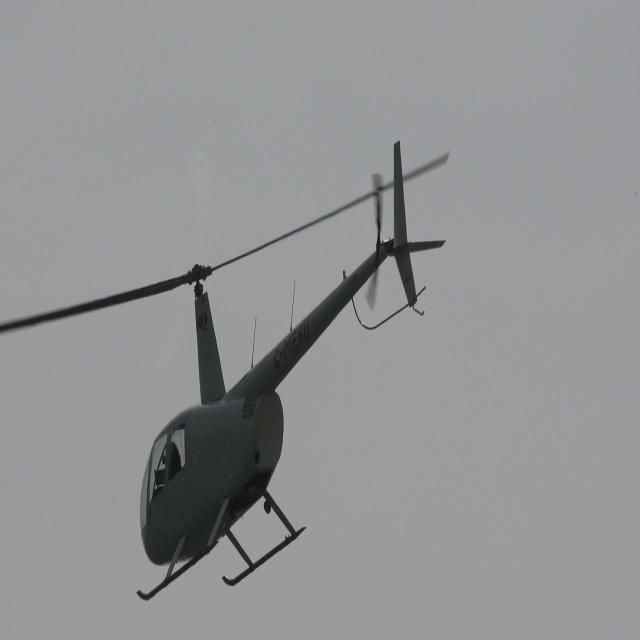CIV_HELO: (137, 138, 448, 600)
